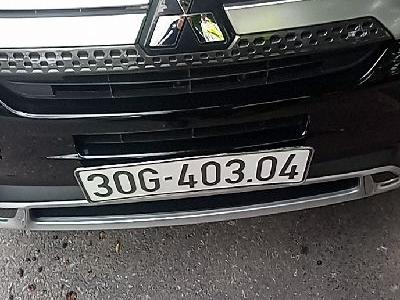car: (73, 146, 317, 205)
